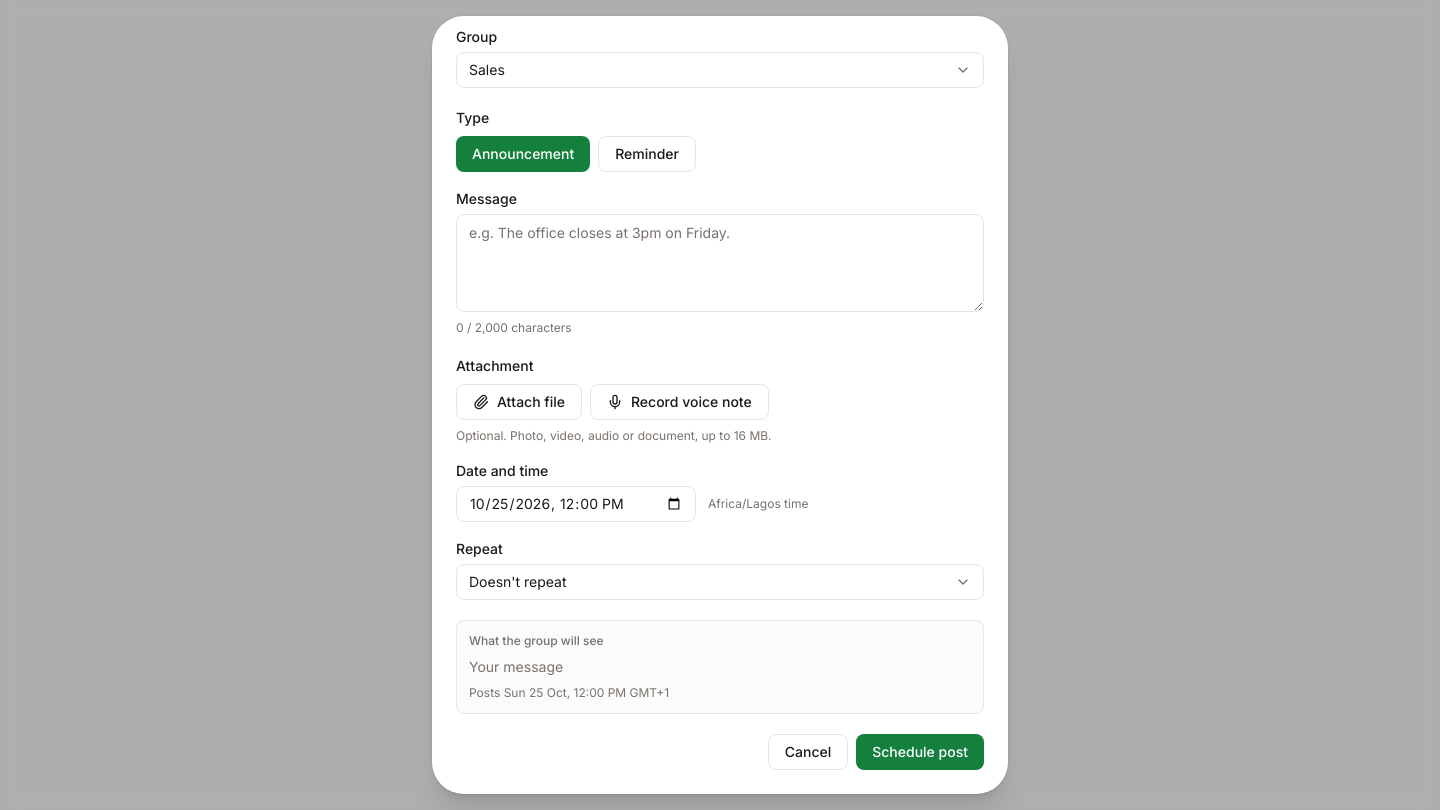
Test: ScheduledPostDialog › shows the problem instead of saving an empty message
This screenshot has width=1440, height=810.
(page scrolled)
Click the button "Schedule post" at (920, 752), box [856,734,984,770]
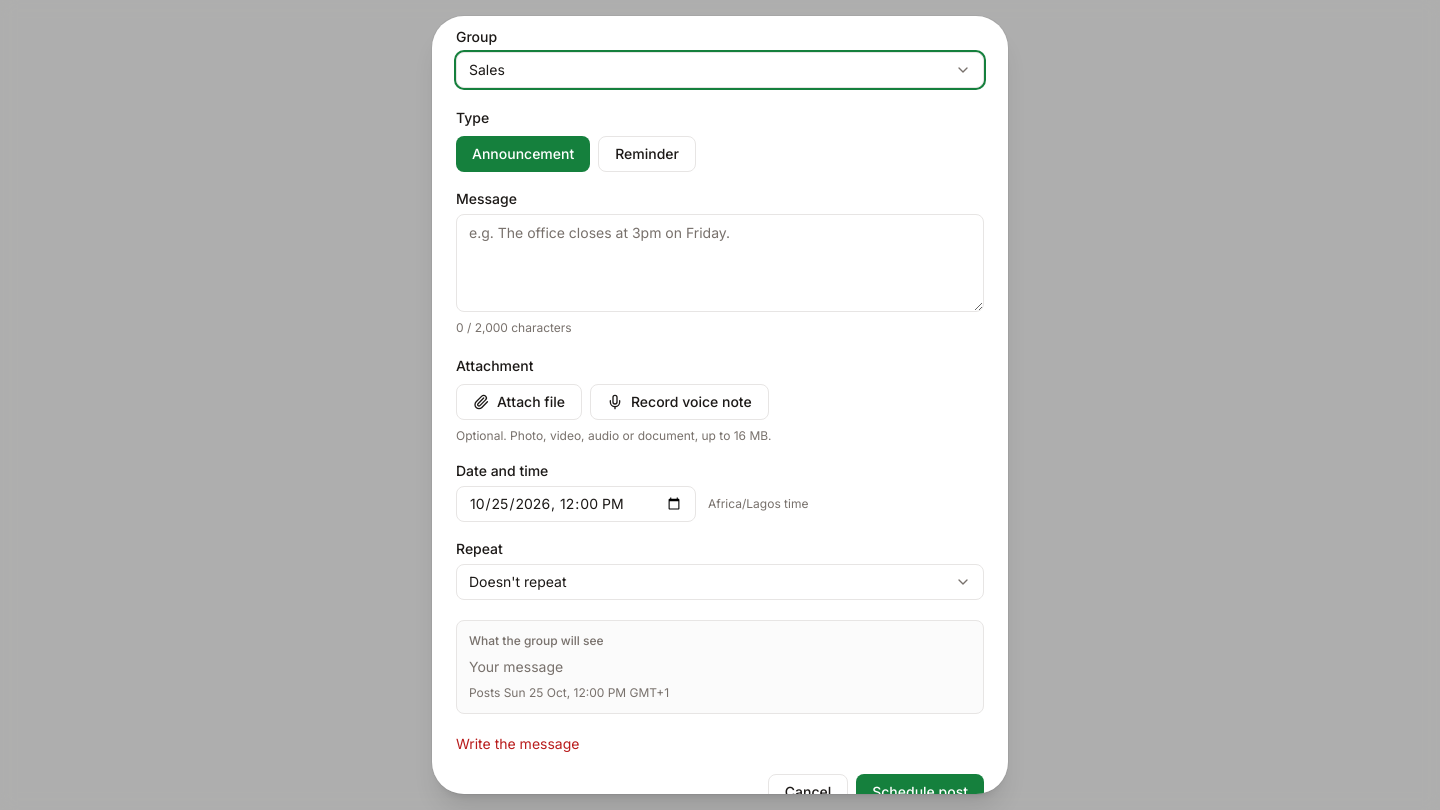
Check: the text "Write the message" is shown, box [456,735,579,752]
